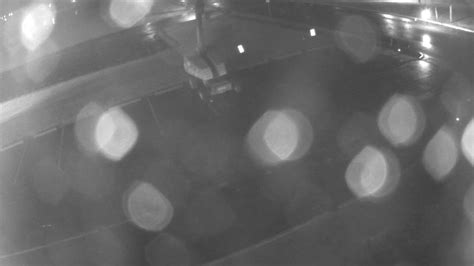pole: (180, 1, 220, 72)
